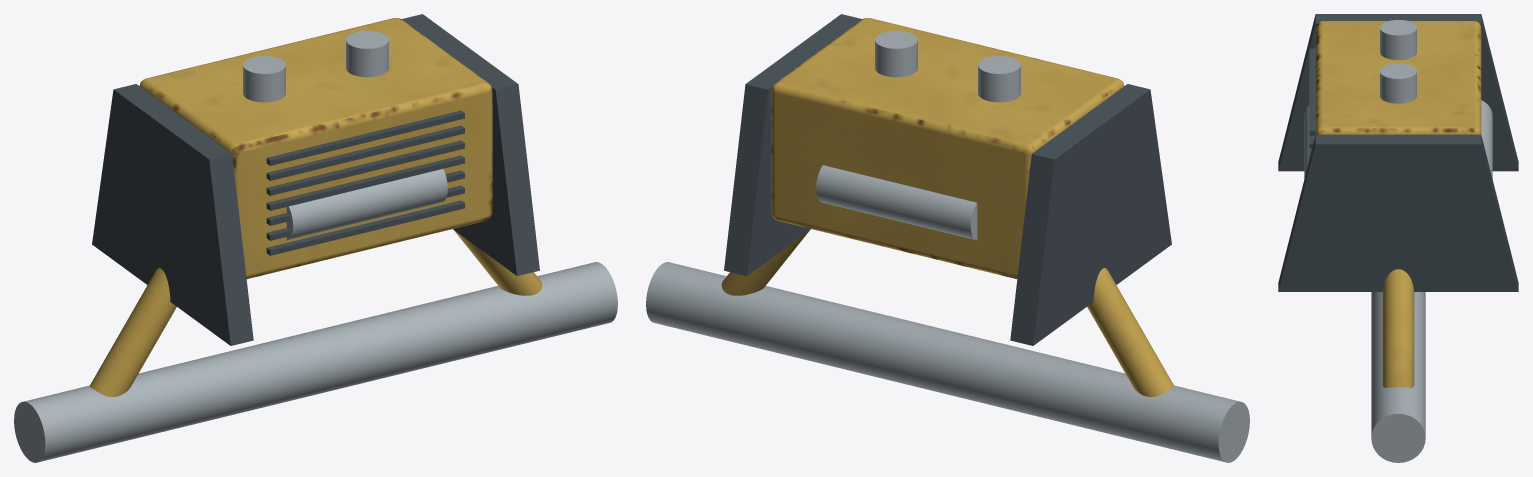
File: grab_head.glb
The picture shows the model from 3 angles, left to right: view 1: azimuth 30°, elevation 25°; view 2: azimuth 150°, elevation 25°; view 3: azimuth 270°, elevation 25°; orthographic projection. The views are drawn at different scales.
Parts seen in each view (by area): view 1: grab_head; view 2: grab_head; view 3: grab_head.
Part boxes in pixels (bbox=[...]): grab_head: bbox=[14, 14, 617, 462]; grab_head: bbox=[646, 14, 1249, 462]; grab_head: bbox=[1278, 14, 1518, 462].
Bounding box in the file's own units: 2 × 1.13 × 0.84.
Materials: 3 (1 with a texture image).
